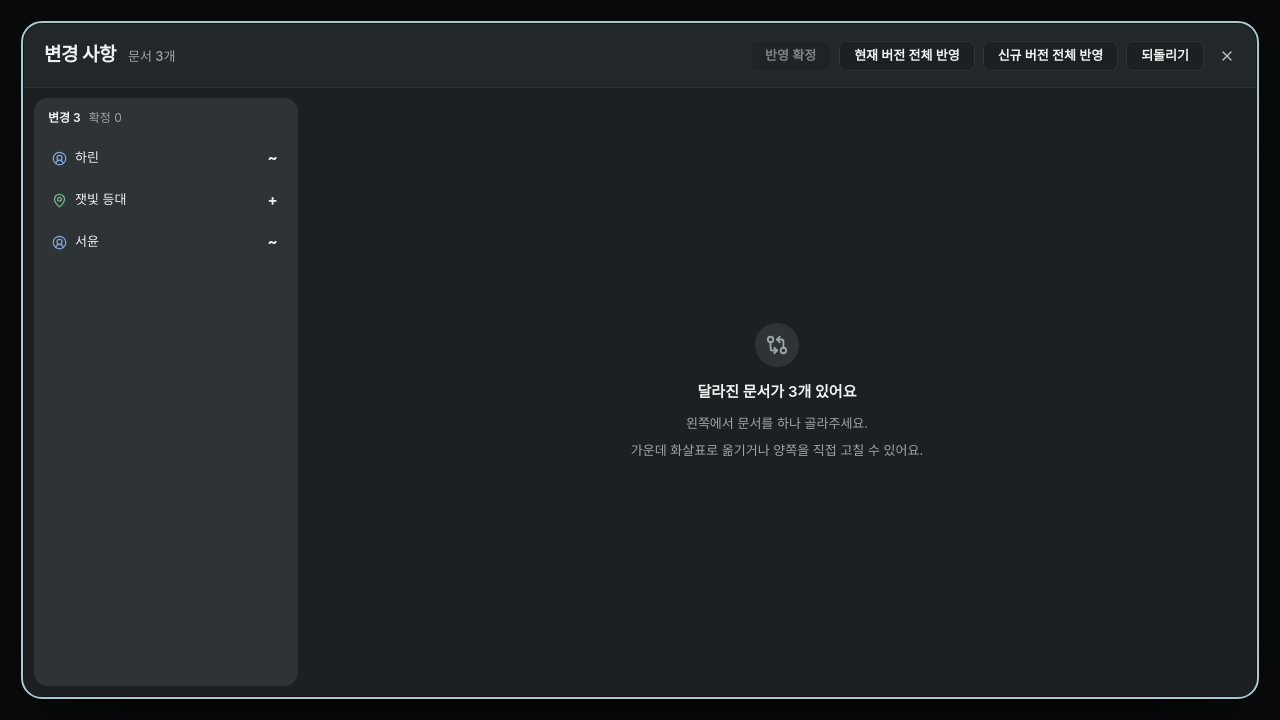
Test: GraphDiffModal › reports confirmed result counts without document identifiers
Click the button "신규 버전 전체 반영" at (1050, 56), box [983,40,1118,70]
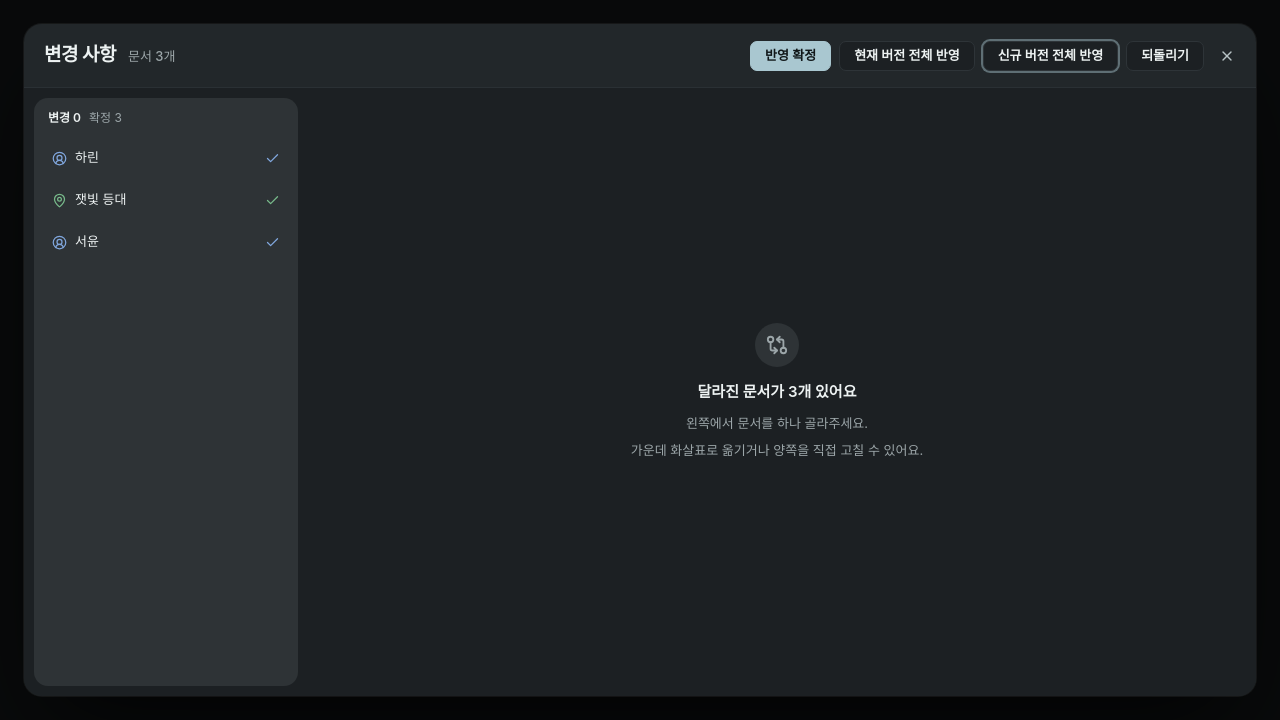
Click the button "반영 확정" at (791, 56), box [750,40,831,70]
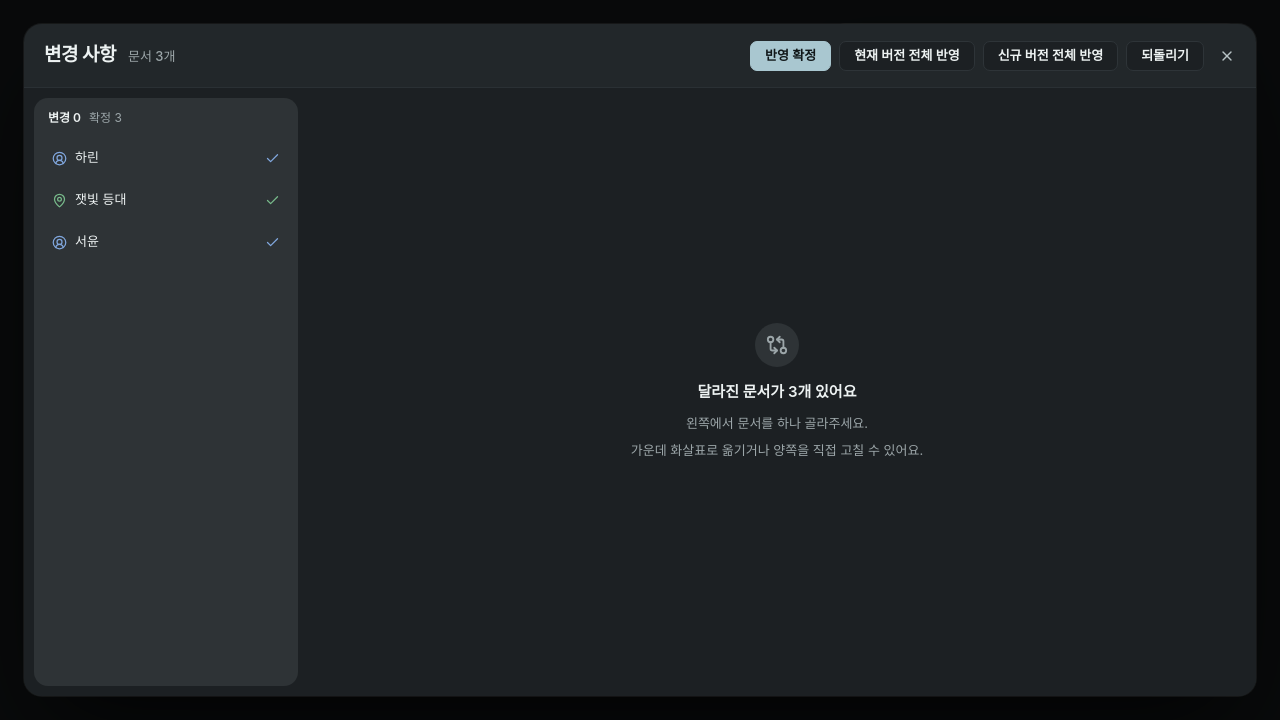
Check: the text "변경 사항을 반영했어요." is shown, box [876,39,1006,55]
